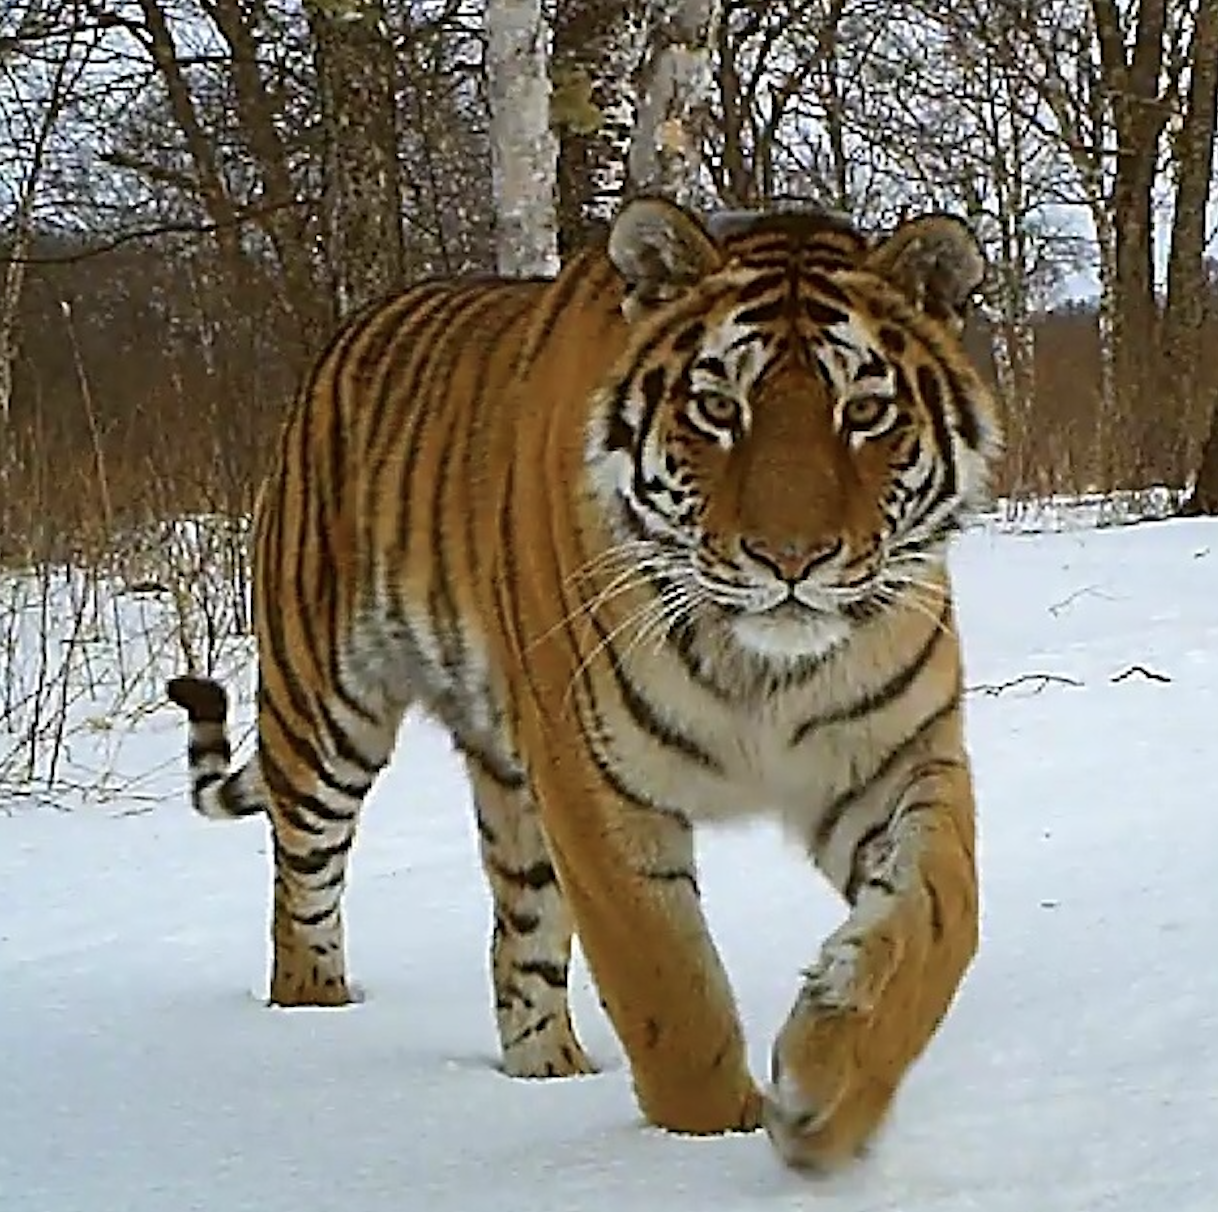Tiger: (142, 178, 1044, 1190)
